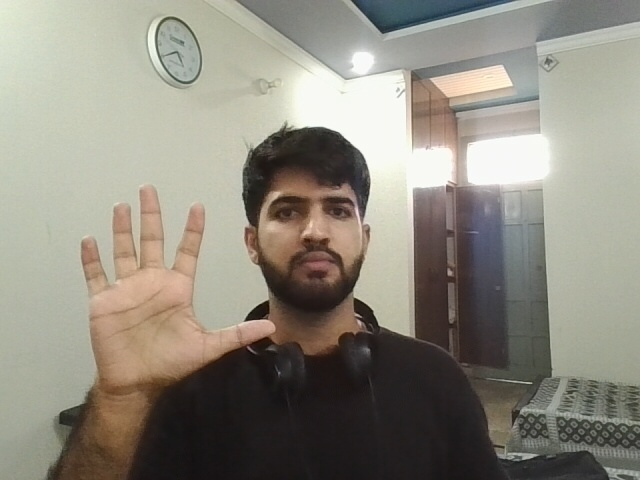Hello: (63, 177, 277, 391)
